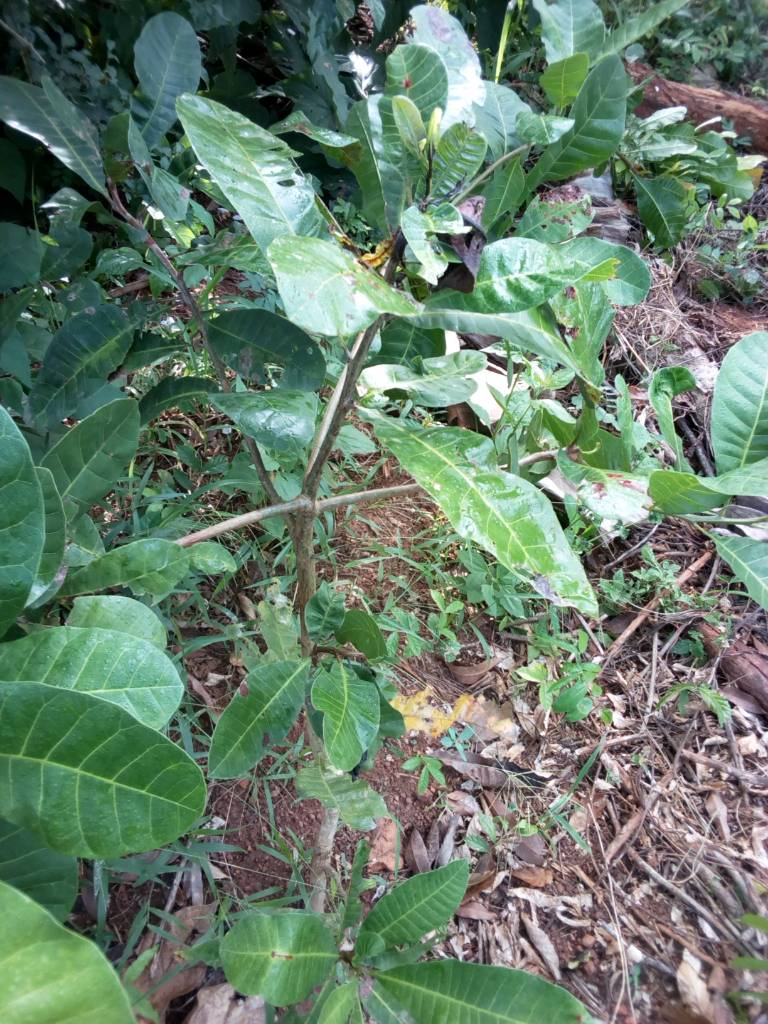Virose: (375, 407, 604, 614)
